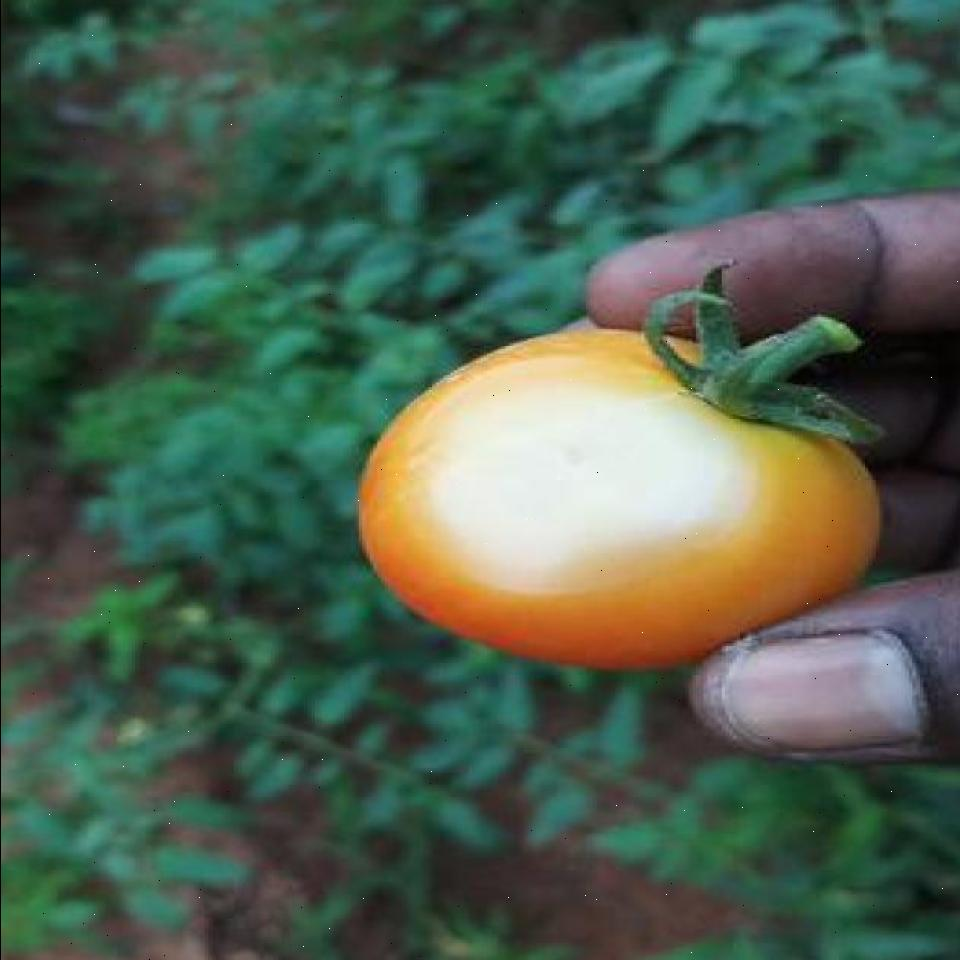Sunscald: (398, 360, 780, 592)
